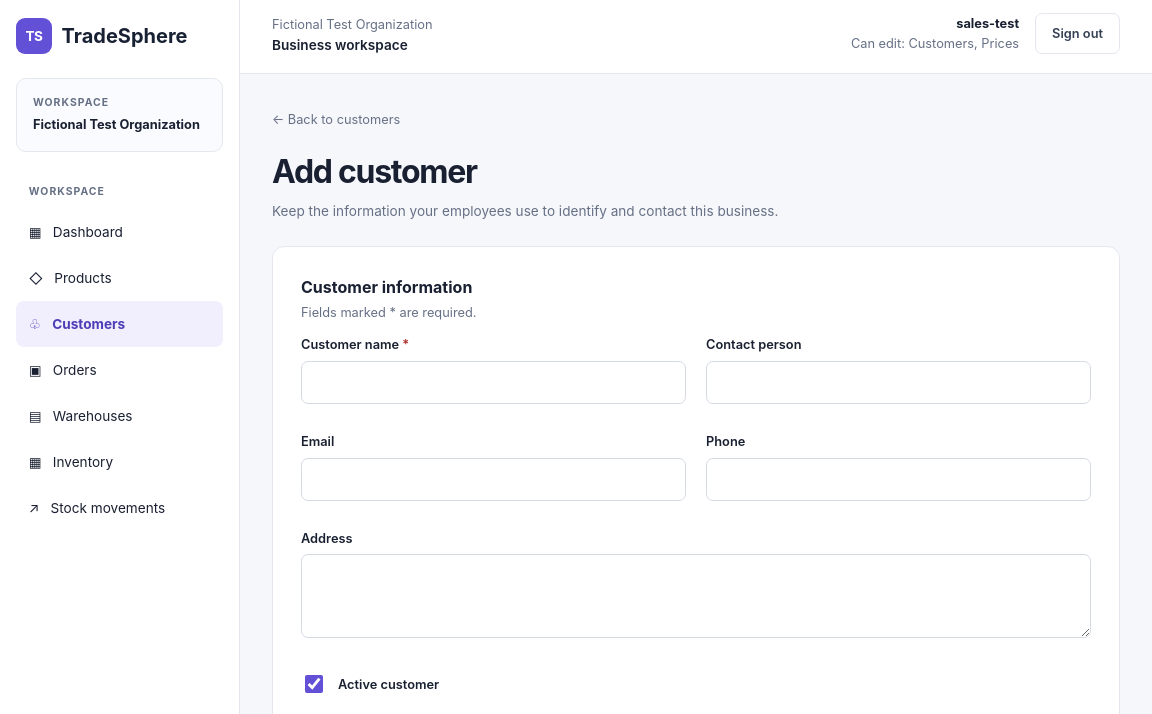
Scenario: customer and selling price interactions › retains customer edits and links server validation to the field
In the field labelled "Customer name *": coordinates (494, 382) [301,361,686,404], type "Fictional Hardware"
(page scrolled)
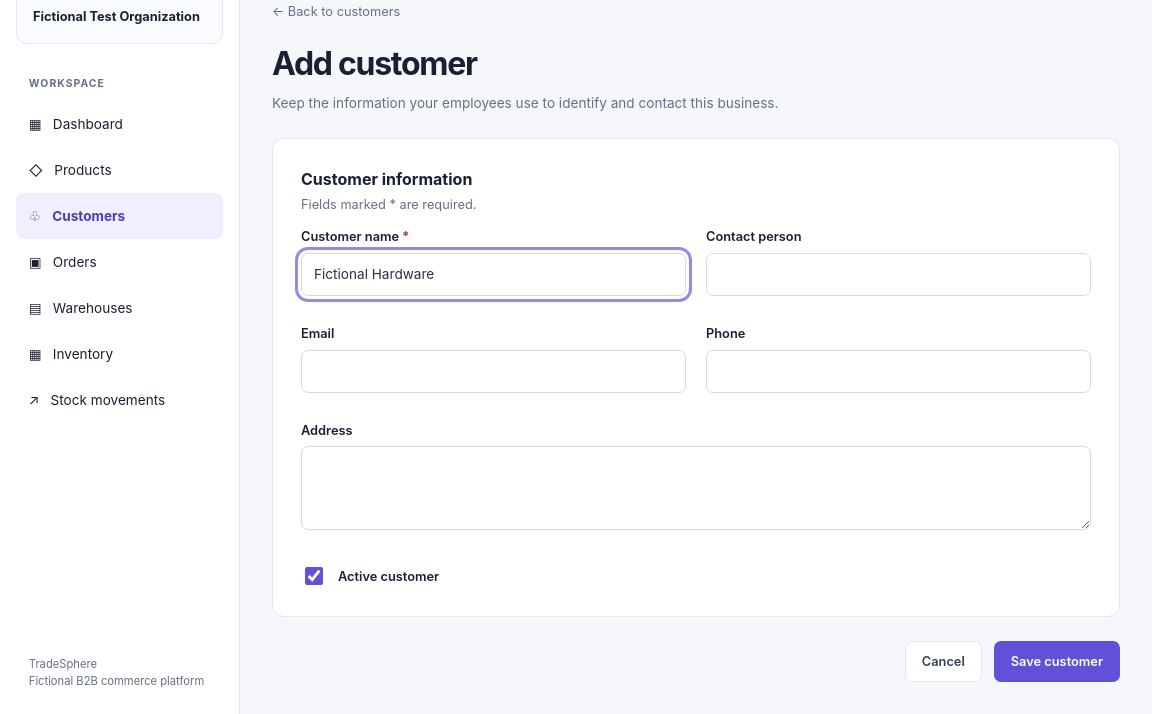
Click the button "Save customer": coordinates (1057, 662) [994,641,1120,682]
(page scrolled)
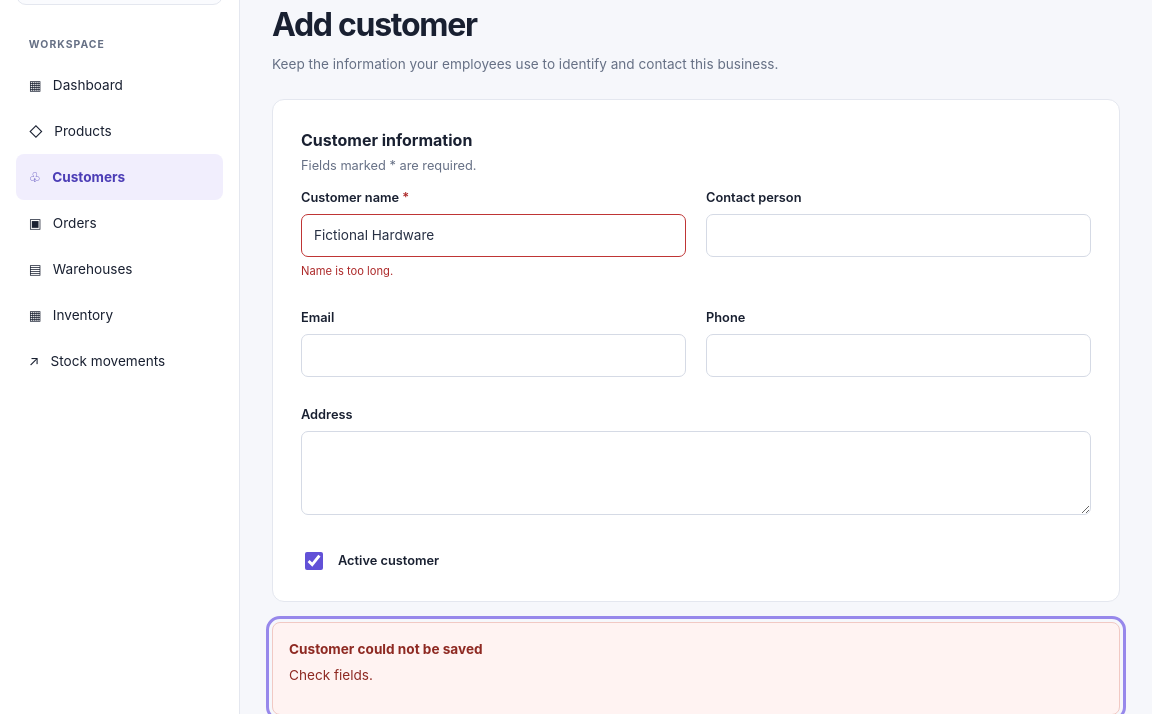
Check: the text "Name is too long." is shown, box [301,264,393,278]
